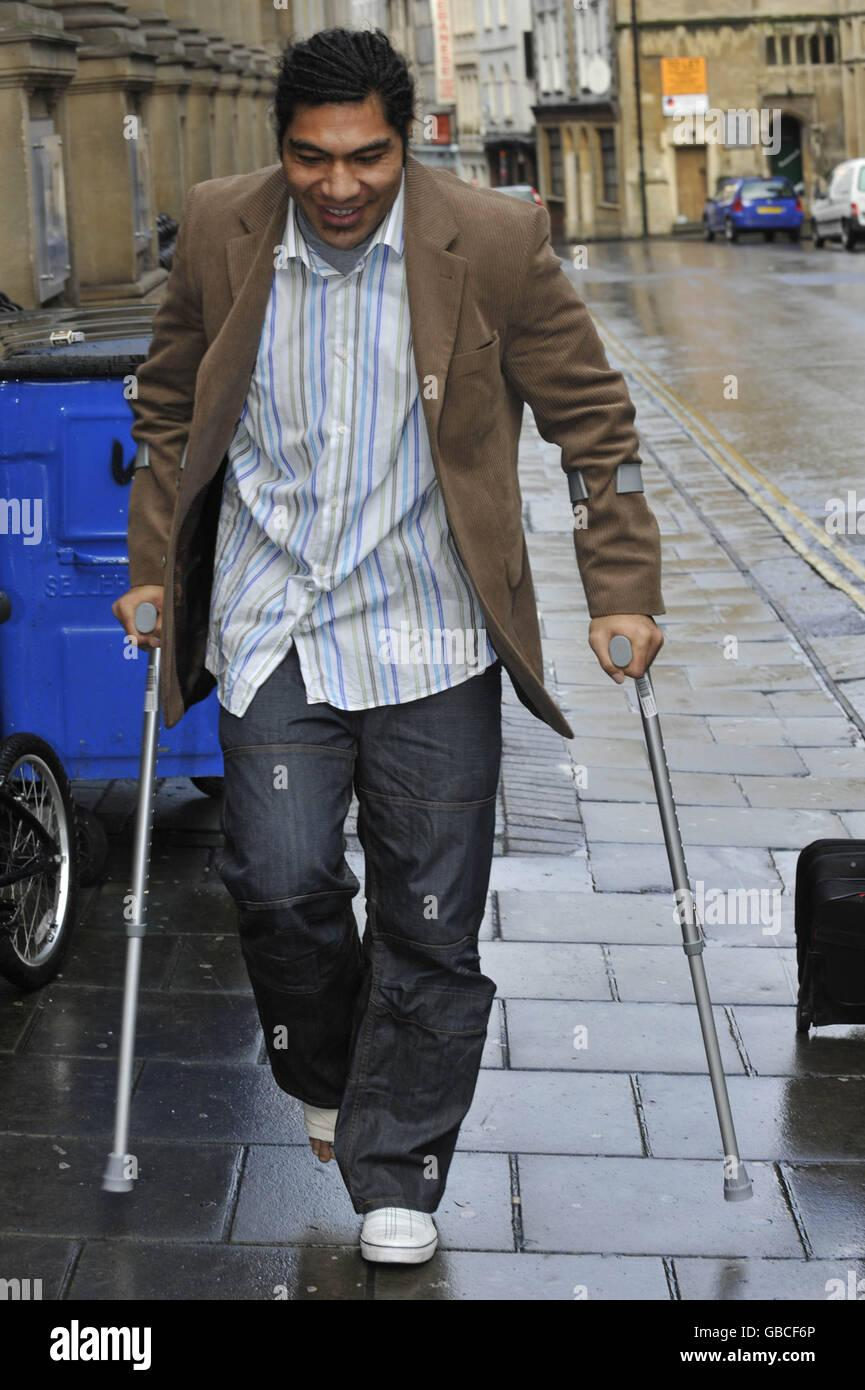crutches: (99, 26, 756, 1270)
